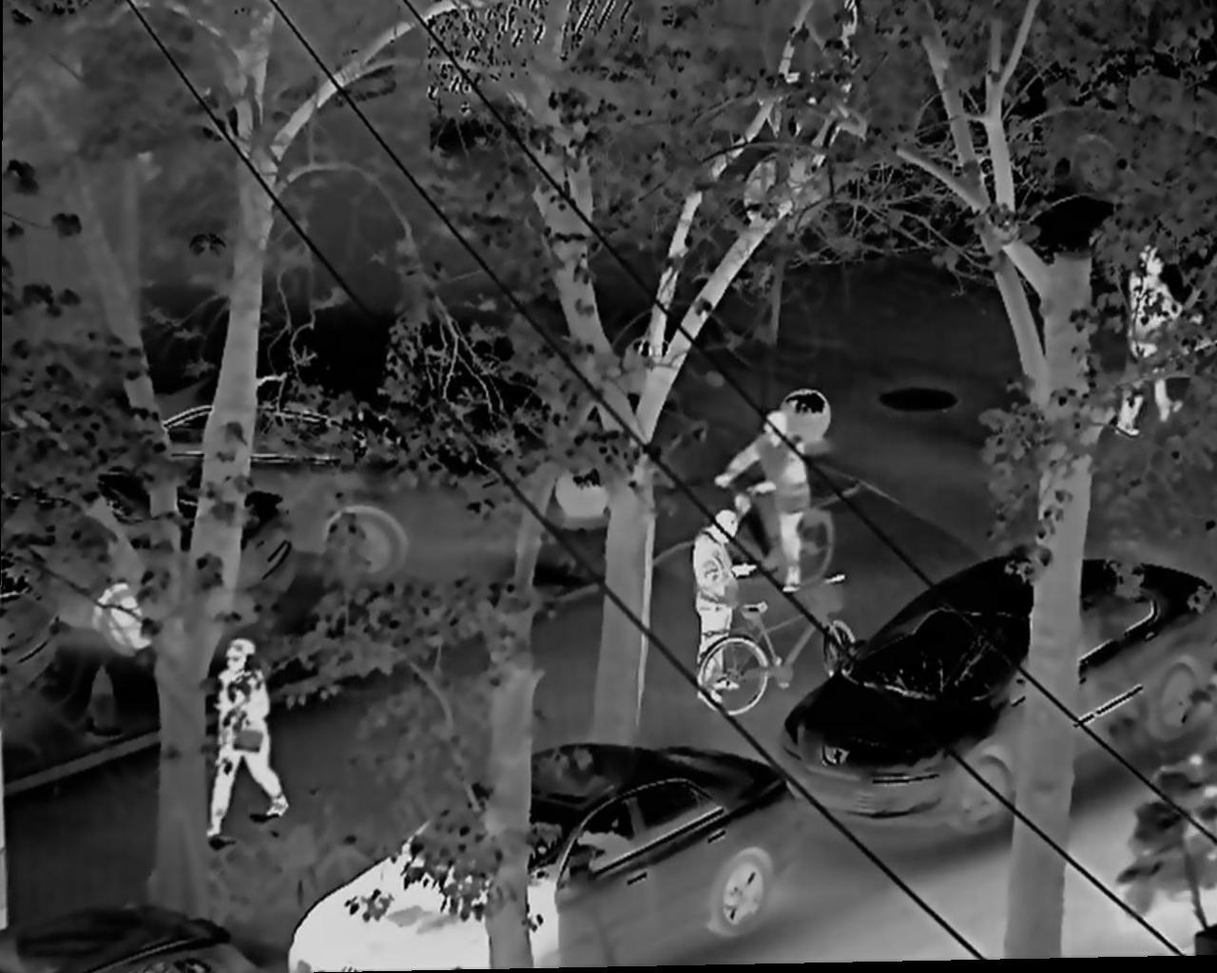person: (711, 410, 808, 595), (1111, 246, 1196, 437), (206, 639, 288, 836), (691, 508, 757, 703)
